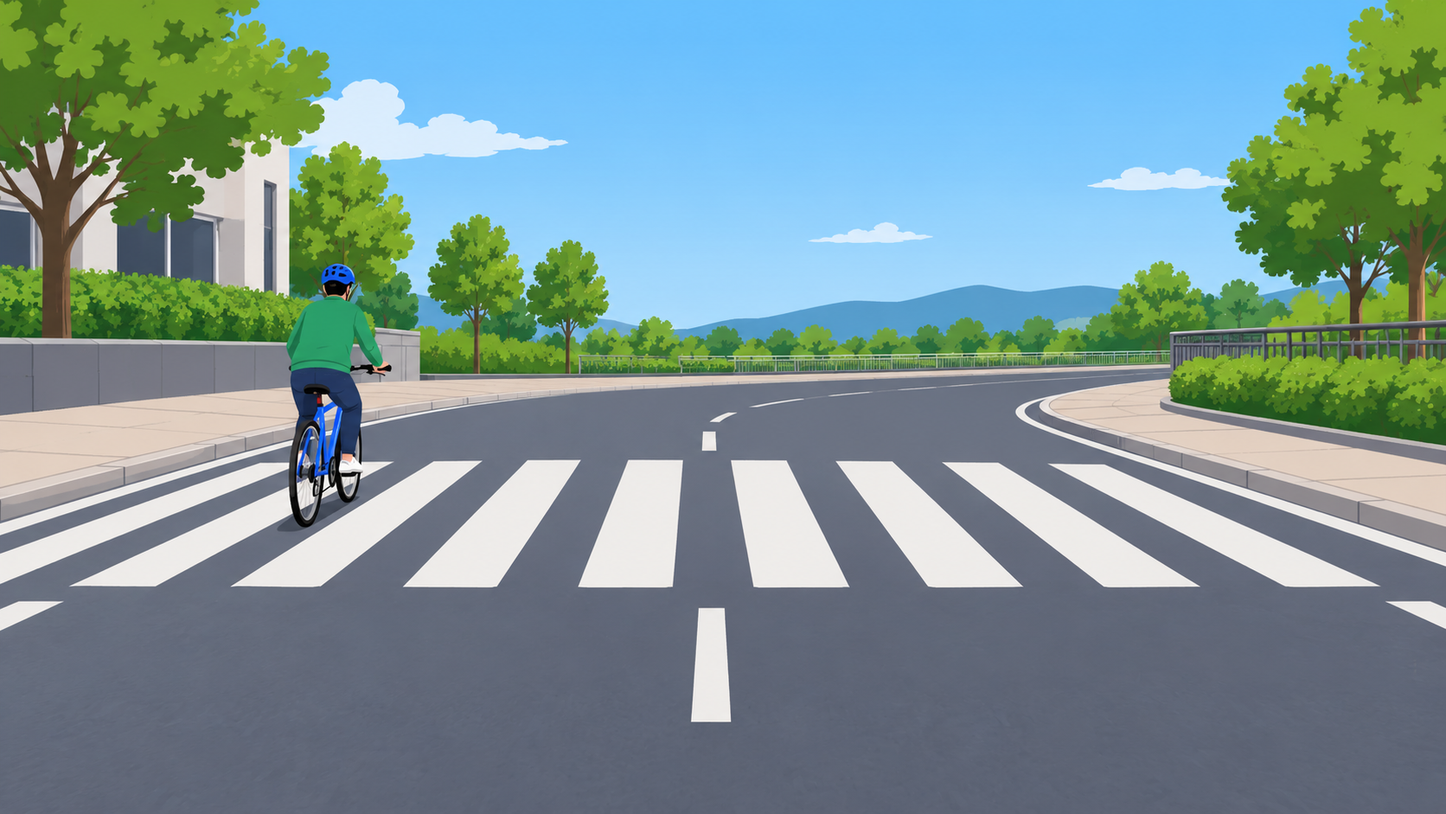bicycle: (290, 267, 394, 527)
person: (292, 264, 386, 490)
zebra_crossing: (0, 432, 1446, 587)
